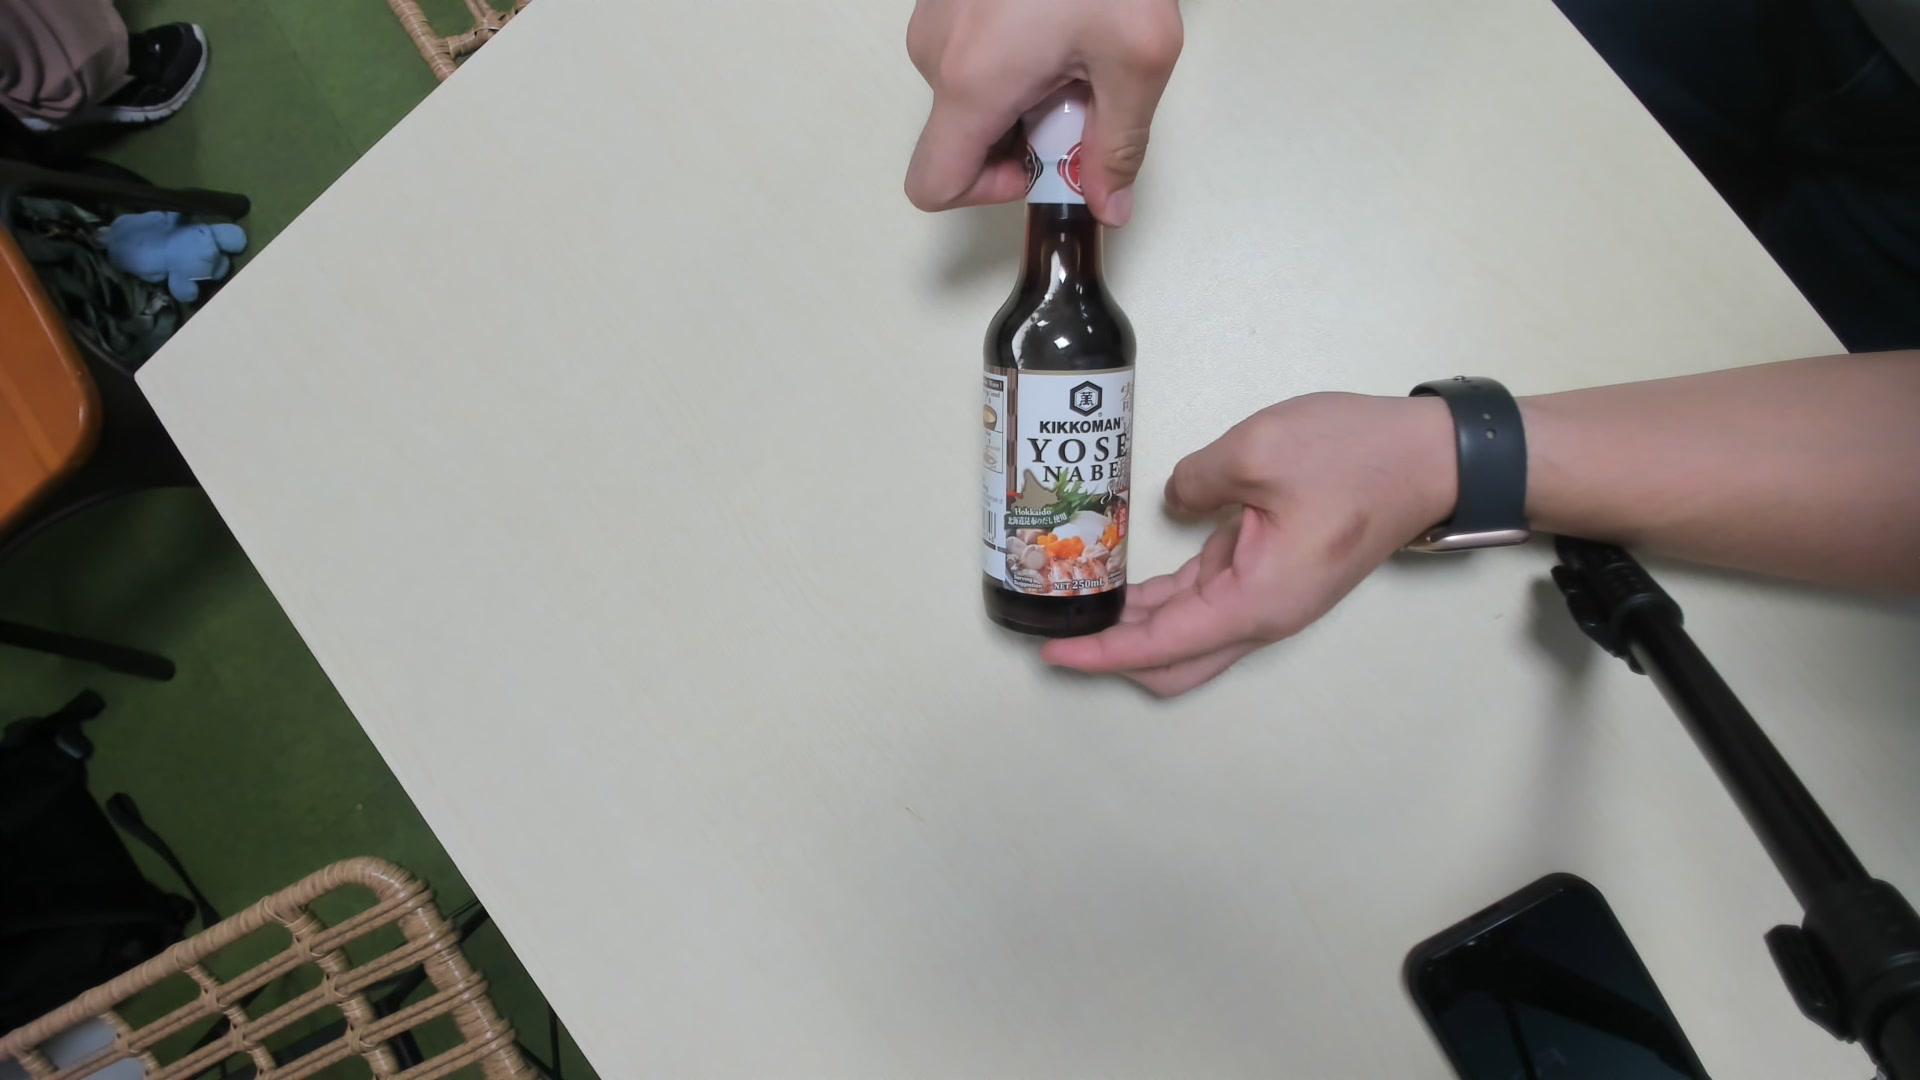OtherSauceDressing_200-299g_NonHalal_NonHealthy: (972, 82, 1127, 638)
